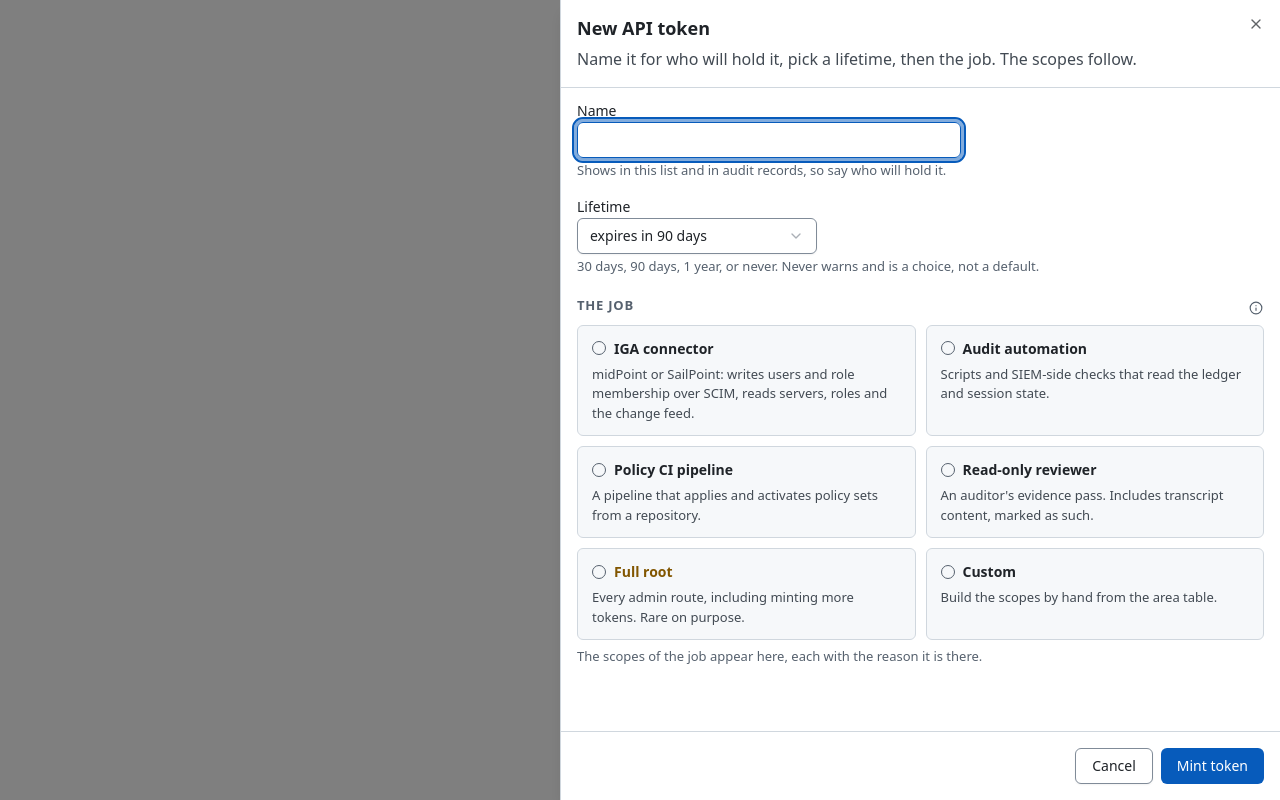
it: the mint sheet › warns that a root credential mints further tokens, by card and by area
The width and height of the screenshot is (1280, 800).
Click the radio button labelled "Full root". click: (746, 594)
box: [578, 549, 914, 639]
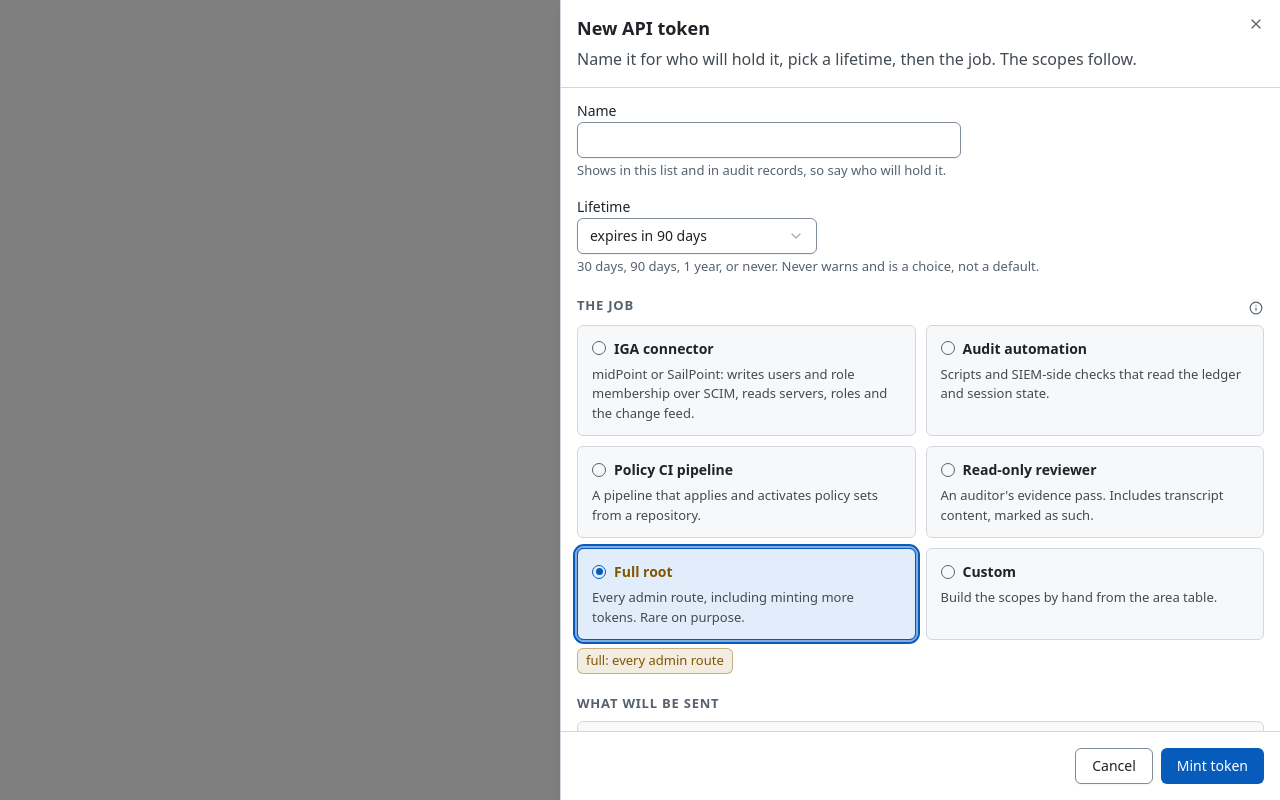
Click the radio button labelled "Custom". click: (989, 572)
box: [926, 549, 1263, 620]
(page scrolled)
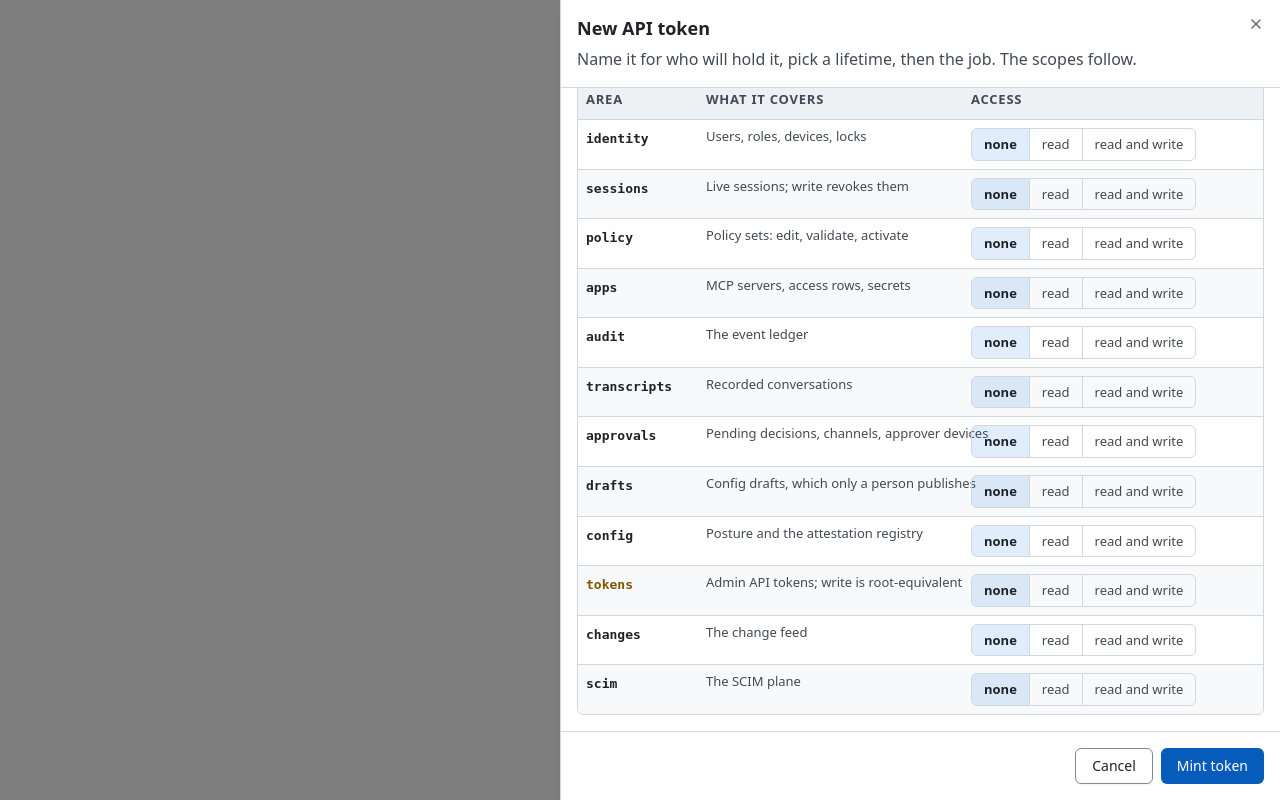
Click the 10th radio button labelled "read and write". click: (1139, 590)
box: [1082, 575, 1195, 606]
(page scrolled)
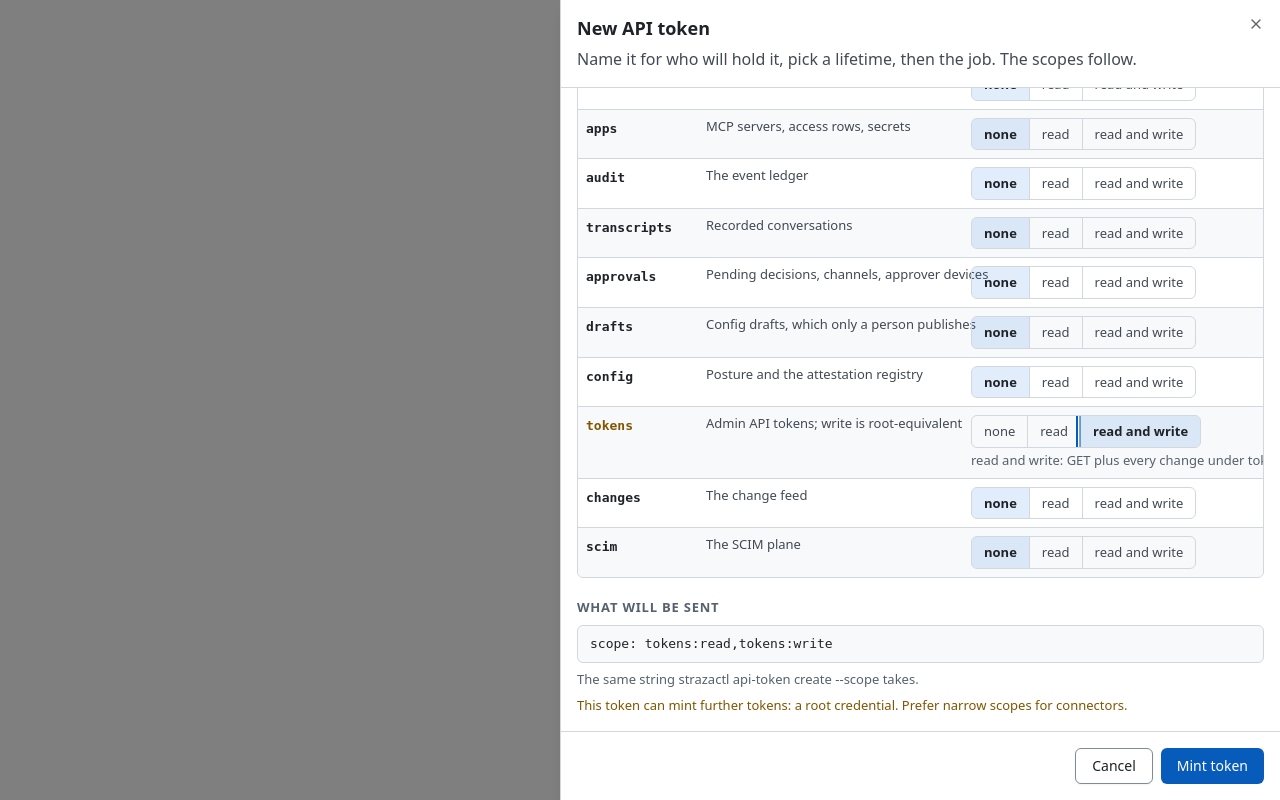
Result: the text "scope: tokens:read,tokens:write" is shown at [577, 625, 1264, 663]
Result: the text "This token can mint further tokens: a root credential. Prefer narrow scopes for connectors." is shown at [577, 696, 1128, 714]
